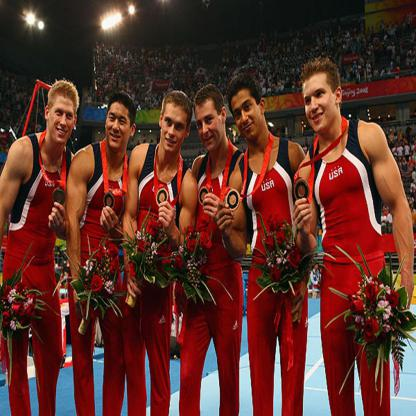face: (303, 78, 335, 133), (230, 94, 264, 141), (51, 95, 78, 143), (105, 103, 132, 151), (161, 102, 185, 155), (198, 105, 223, 153)
